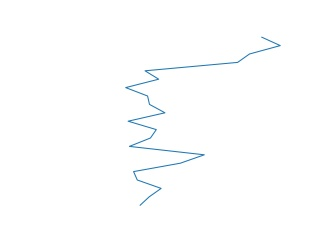crevasseRiverChannelBar: (123, 34, 284, 207)
